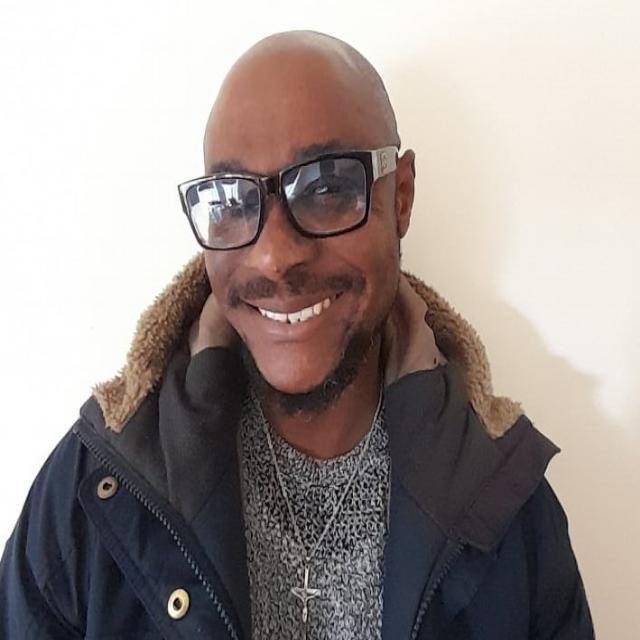happy: (198, 24, 420, 392)
